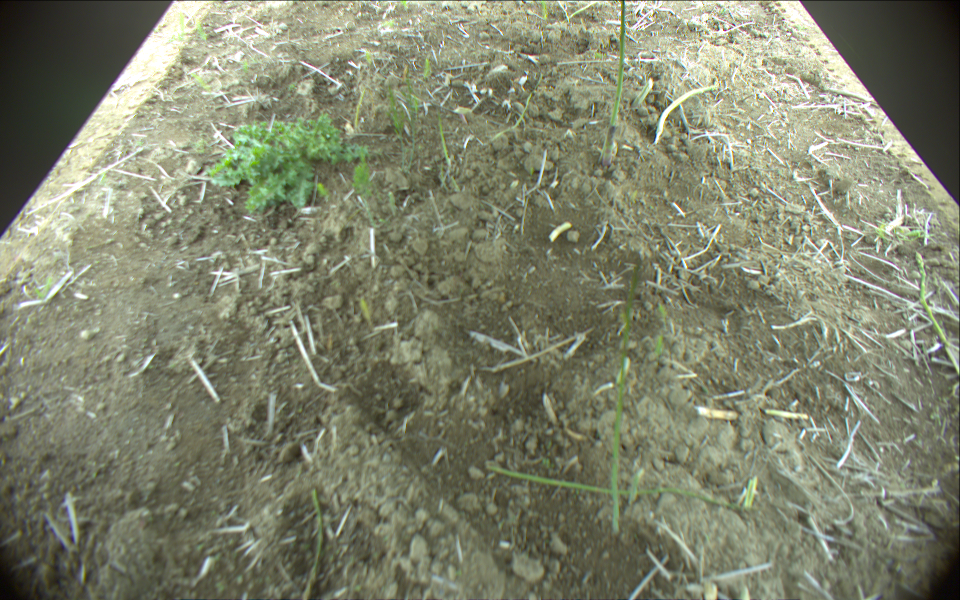aspa: (485, 466, 759, 513), (611, 263, 641, 537), (915, 250, 960, 370), (597, 1, 627, 160), (562, 1, 596, 22), (606, 122, 615, 164), (558, 1, 571, 21)
